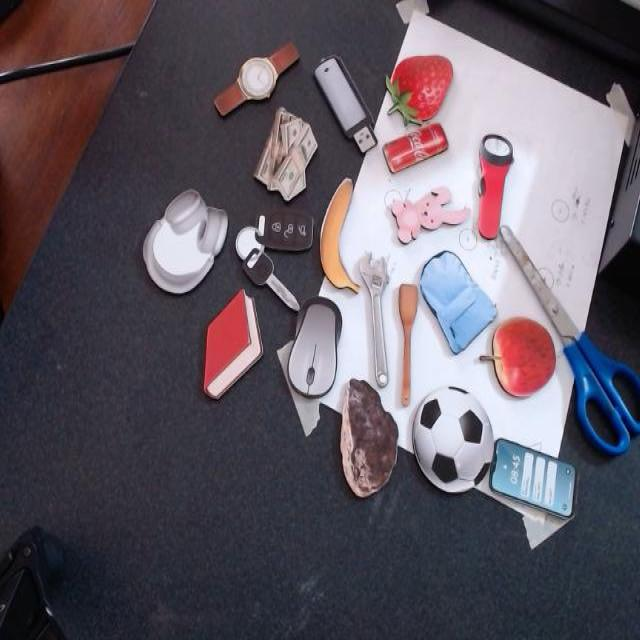Other Objects: (498, 224, 639, 455), (132, 171, 239, 313), (226, 191, 317, 312), (410, 236, 498, 357), (409, 382, 496, 495), (311, 48, 382, 161), (207, 40, 304, 118), (252, 104, 324, 206), (488, 437, 576, 520), (339, 377, 398, 497), (284, 292, 344, 402), (479, 316, 556, 397), (384, 184, 470, 244), (319, 176, 360, 293), (358, 251, 389, 387), (476, 132, 513, 239), (383, 118, 449, 174), (398, 283, 418, 405)
